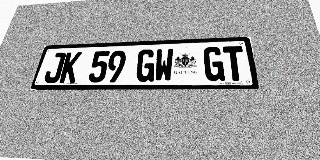5: (88, 51, 110, 83)
9: (105, 50, 127, 82)
G: (203, 47, 225, 81), (135, 49, 156, 82)
J: (43, 52, 66, 83)
K: (59, 52, 82, 83)
T: (223, 46, 247, 81)
W: (154, 48, 173, 82)
